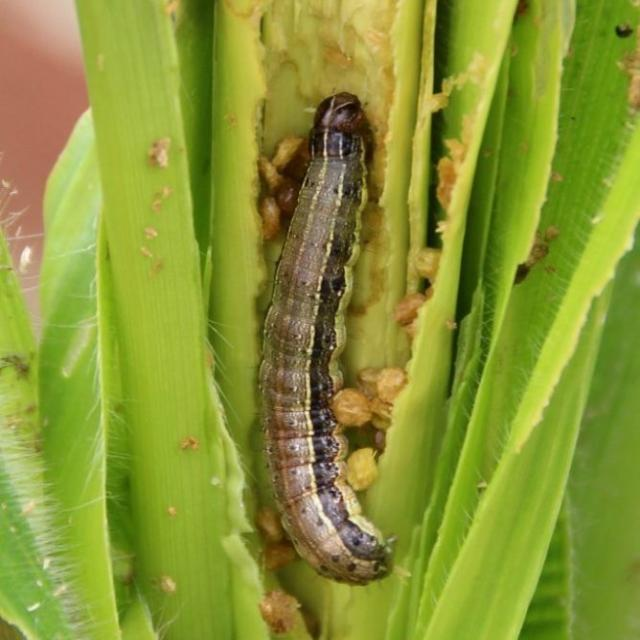worm: (256, 90, 399, 587)
